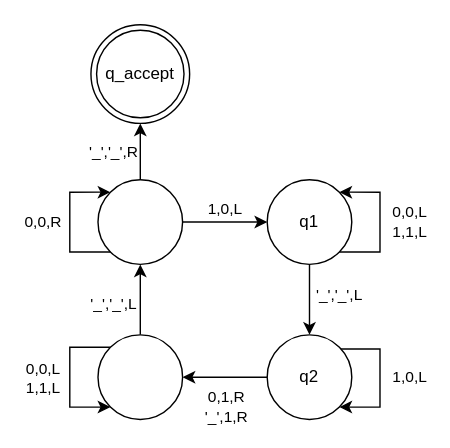
Image size: 450x448. Some labels were removed from this diagram. The centre of each missing label's shape, as x and y in pixels:
"q0" belongs at (140,221).
"q4" belongs at (140,376).
